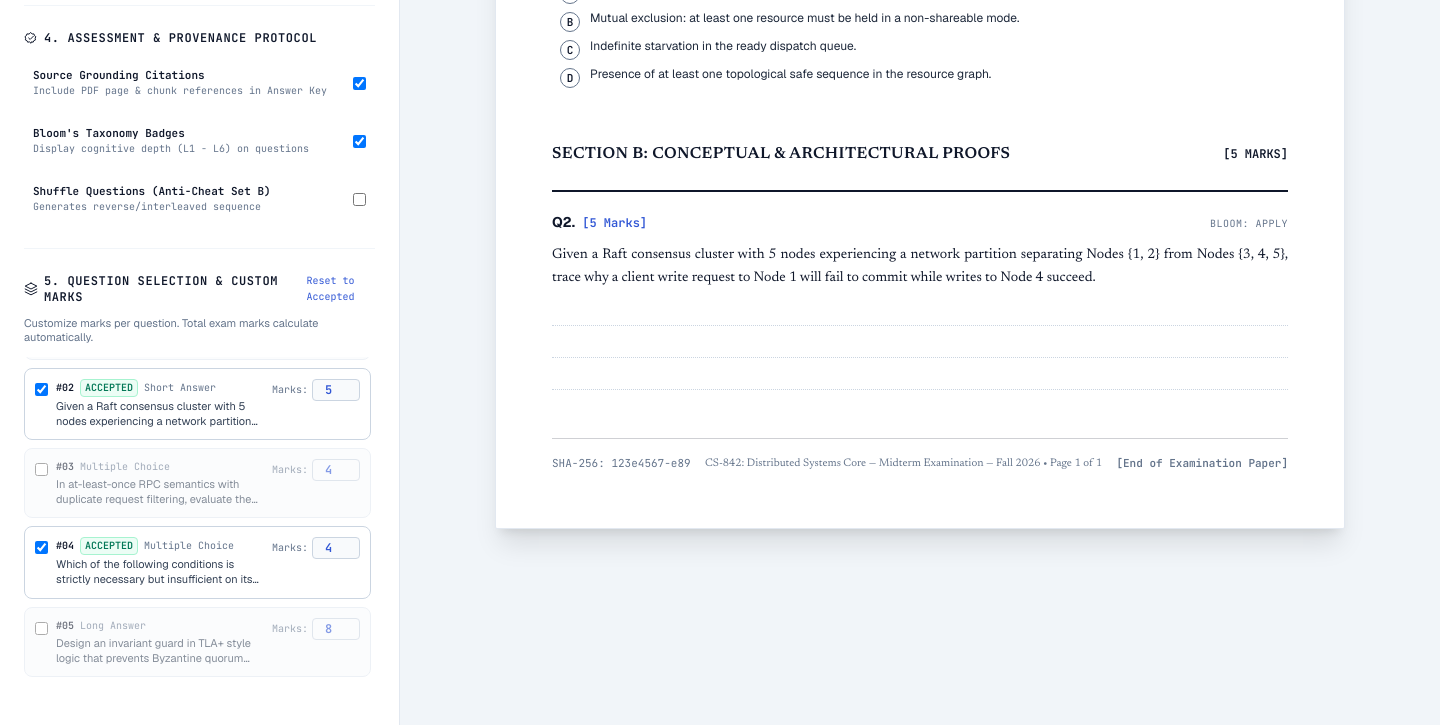
Test: ProjectExportStudioPage › allows the instructor to customize marks per question and dynamically recalculates total marks (Requirement 1)
The image size is (1440, 725).
(page scrolled)
Update marks for question 4 to 15
Replace the text in the number field named "Marks for question 4" with "15": x=336, y=548 x1=312 y1=537 x2=360 y2=559
(page scrolled)
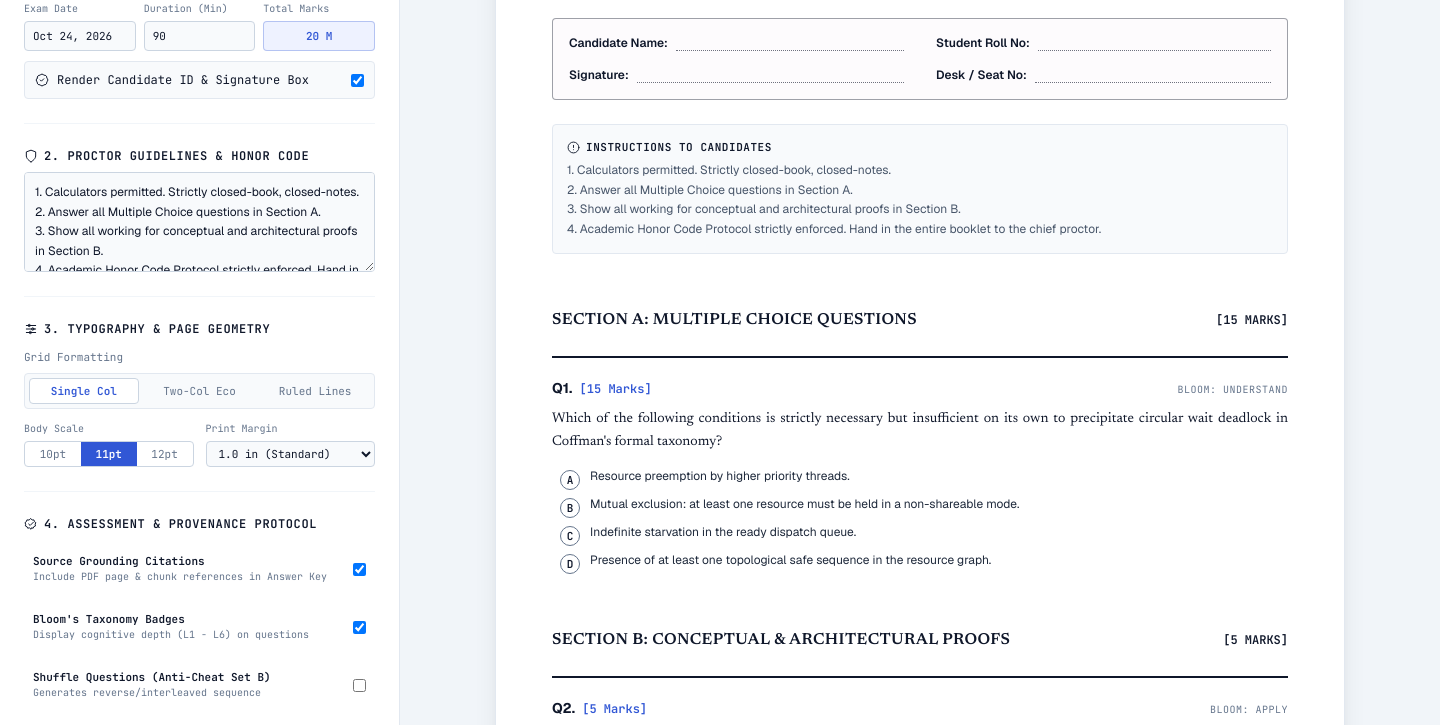
Expected: the text "[15 Marks]" in the row of "Section A: Multiple Choice Questions" is shown, x1=1216 y1=312 x2=1288 y2=328
